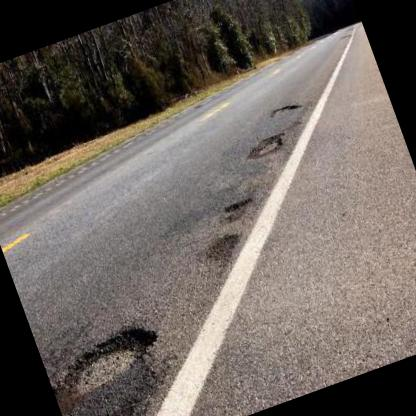pothole: (54, 318, 167, 401), (198, 228, 245, 269), (241, 130, 288, 165), (218, 192, 258, 223), (266, 97, 300, 120)
